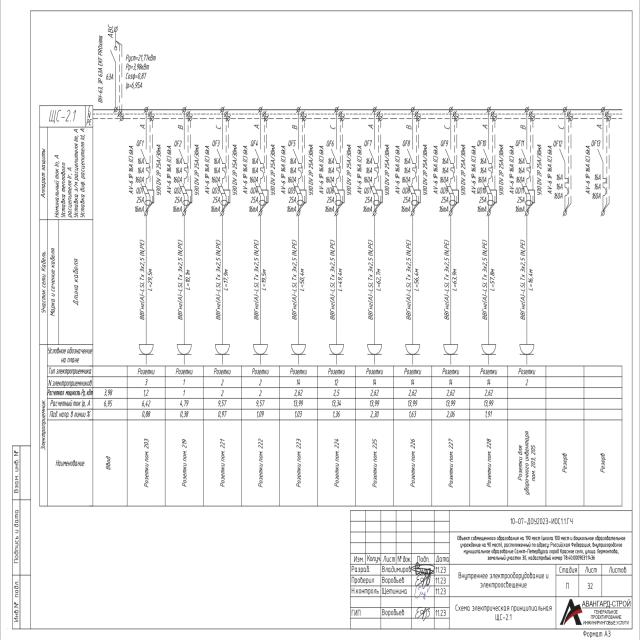-: (96, 35, 104, 103), (496, 144, 506, 196), (420, 144, 430, 196), (154, 144, 164, 196), (230, 144, 240, 195), (306, 144, 316, 195), (535, 144, 544, 196), (203, 144, 212, 196), (583, 144, 592, 196), (545, 144, 554, 196), (345, 144, 354, 196), (393, 144, 402, 196), (268, 144, 277, 196), (48, 108, 77, 124), (430, 145, 439, 196), (192, 144, 201, 195), (382, 144, 391, 195), (469, 143, 478, 194), (164, 144, 173, 195), (278, 143, 287, 194), (459, 144, 468, 195), (127, 144, 136, 195), (240, 144, 249, 195), (355, 144, 364, 195), (316, 144, 324, 196), (508, 144, 516, 196), (438, 195, 450, 213), (476, 195, 488, 213), (209, 195, 221, 213), (361, 195, 373, 213), (399, 196, 411, 213), (171, 196, 183, 213), (133, 195, 144, 212), (285, 195, 296, 212), (324, 195, 335, 212), (248, 195, 259, 212), (514, 196, 525, 213), (107, 22, 114, 40), (105, 71, 114, 82)
QF: (520, 142, 533, 188), (177, 146, 191, 188), (482, 145, 495, 189), (597, 145, 607, 202), (560, 147, 570, 203), (406, 144, 419, 187), (216, 144, 229, 187), (292, 144, 305, 184), (330, 143, 342, 186), (444, 144, 456, 185), (254, 143, 266, 183), (369, 143, 380, 186), (140, 145, 151, 188)
QFD: (255, 180, 271, 206), (216, 180, 232, 206), (140, 180, 156, 206), (445, 181, 461, 207), (406, 180, 422, 206), (368, 178, 384, 204), (178, 180, 194, 206), (521, 181, 536, 207), (483, 180, 498, 206), (330, 180, 345, 206), (292, 180, 307, 206)
QS: (110, 45, 117, 64)
